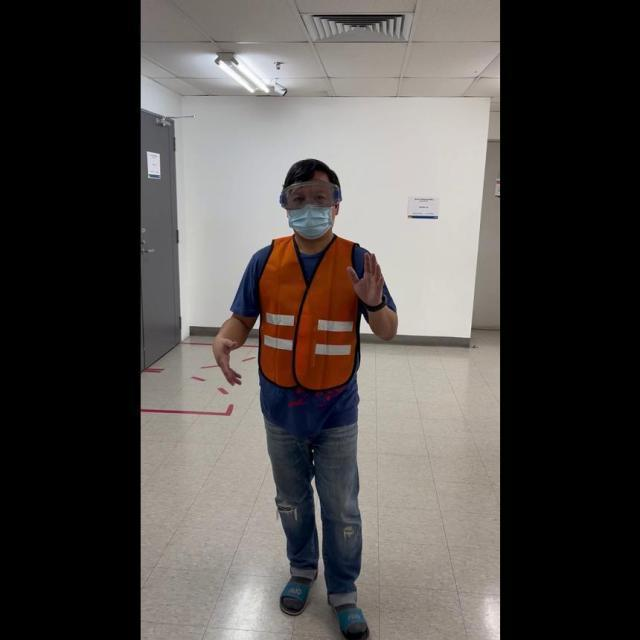bare_hand: (345, 248, 385, 305), (205, 333, 246, 387)
